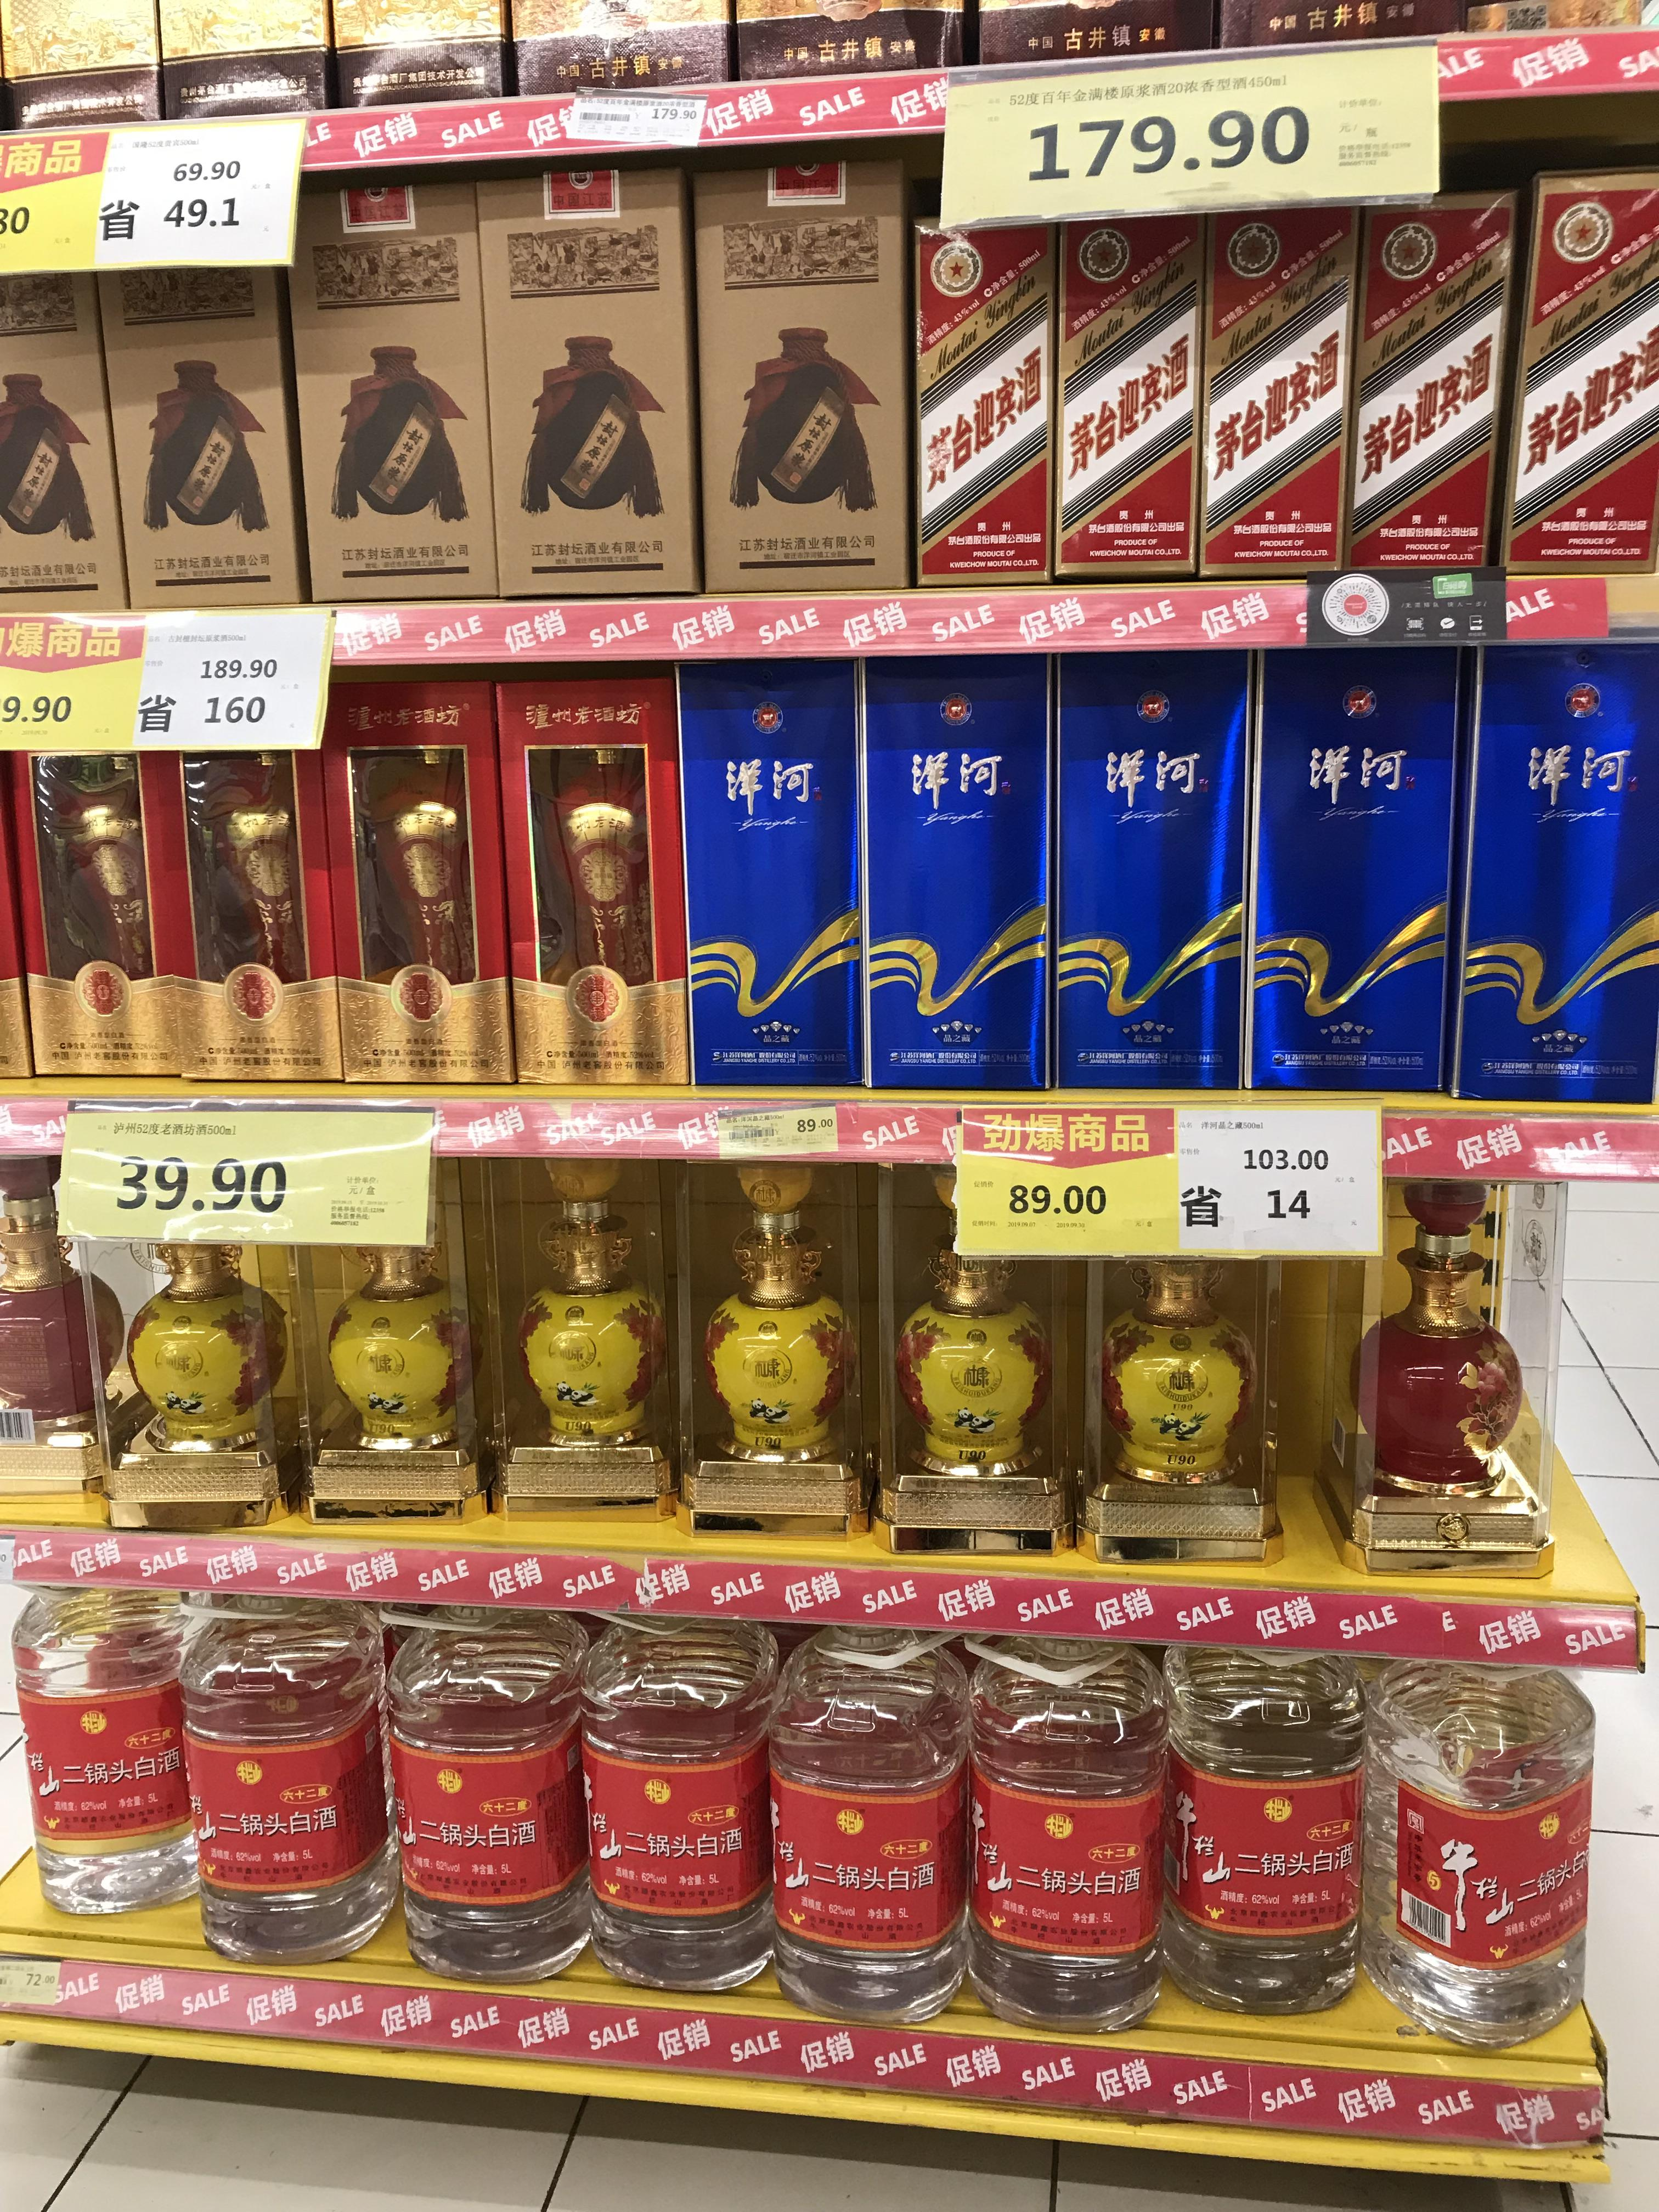bag: (1445, 632, 1650, 1122), (143, 0, 324, 129)
bottle: (1042, 1169, 1302, 1562), (861, 1169, 1047, 1550), (1352, 1186, 1513, 1576), (697, 1144, 850, 1512), (516, 1146, 657, 1505), (310, 1226, 467, 1522), (0, 0, 169, 148), (329, 0, 504, 111), (730, 2, 925, 80), (845, 2, 992, 70)
box: (857, 655, 1061, 1104), (1253, 648, 1457, 1089), (1054, 655, 1244, 1096), (676, 662, 870, 1094), (138, 705, 336, 1089), (497, 685, 673, 1083), (333, 683, 497, 1087), (1342, 188, 1499, 582), (1514, 172, 1659, 578), (1194, 193, 1333, 575), (1066, 211, 1206, 573), (9, 712, 129, 1078), (540, 2, 718, 91)
bucket: (1363, 1620, 1593, 2048), (967, 1602, 1175, 2040), (1161, 1606, 1371, 2020), (702, 145, 899, 583), (178, 1569, 394, 1965), (582, 1578, 786, 1994), (772, 1606, 965, 2027), (504, 158, 694, 585), (387, 1578, 591, 1972), (19, 1557, 221, 1930), (115, 1207, 288, 1519)
others: (307, 181, 476, 587), (129, 174, 282, 596), (910, 183, 1066, 580), (0, 174, 115, 592)
